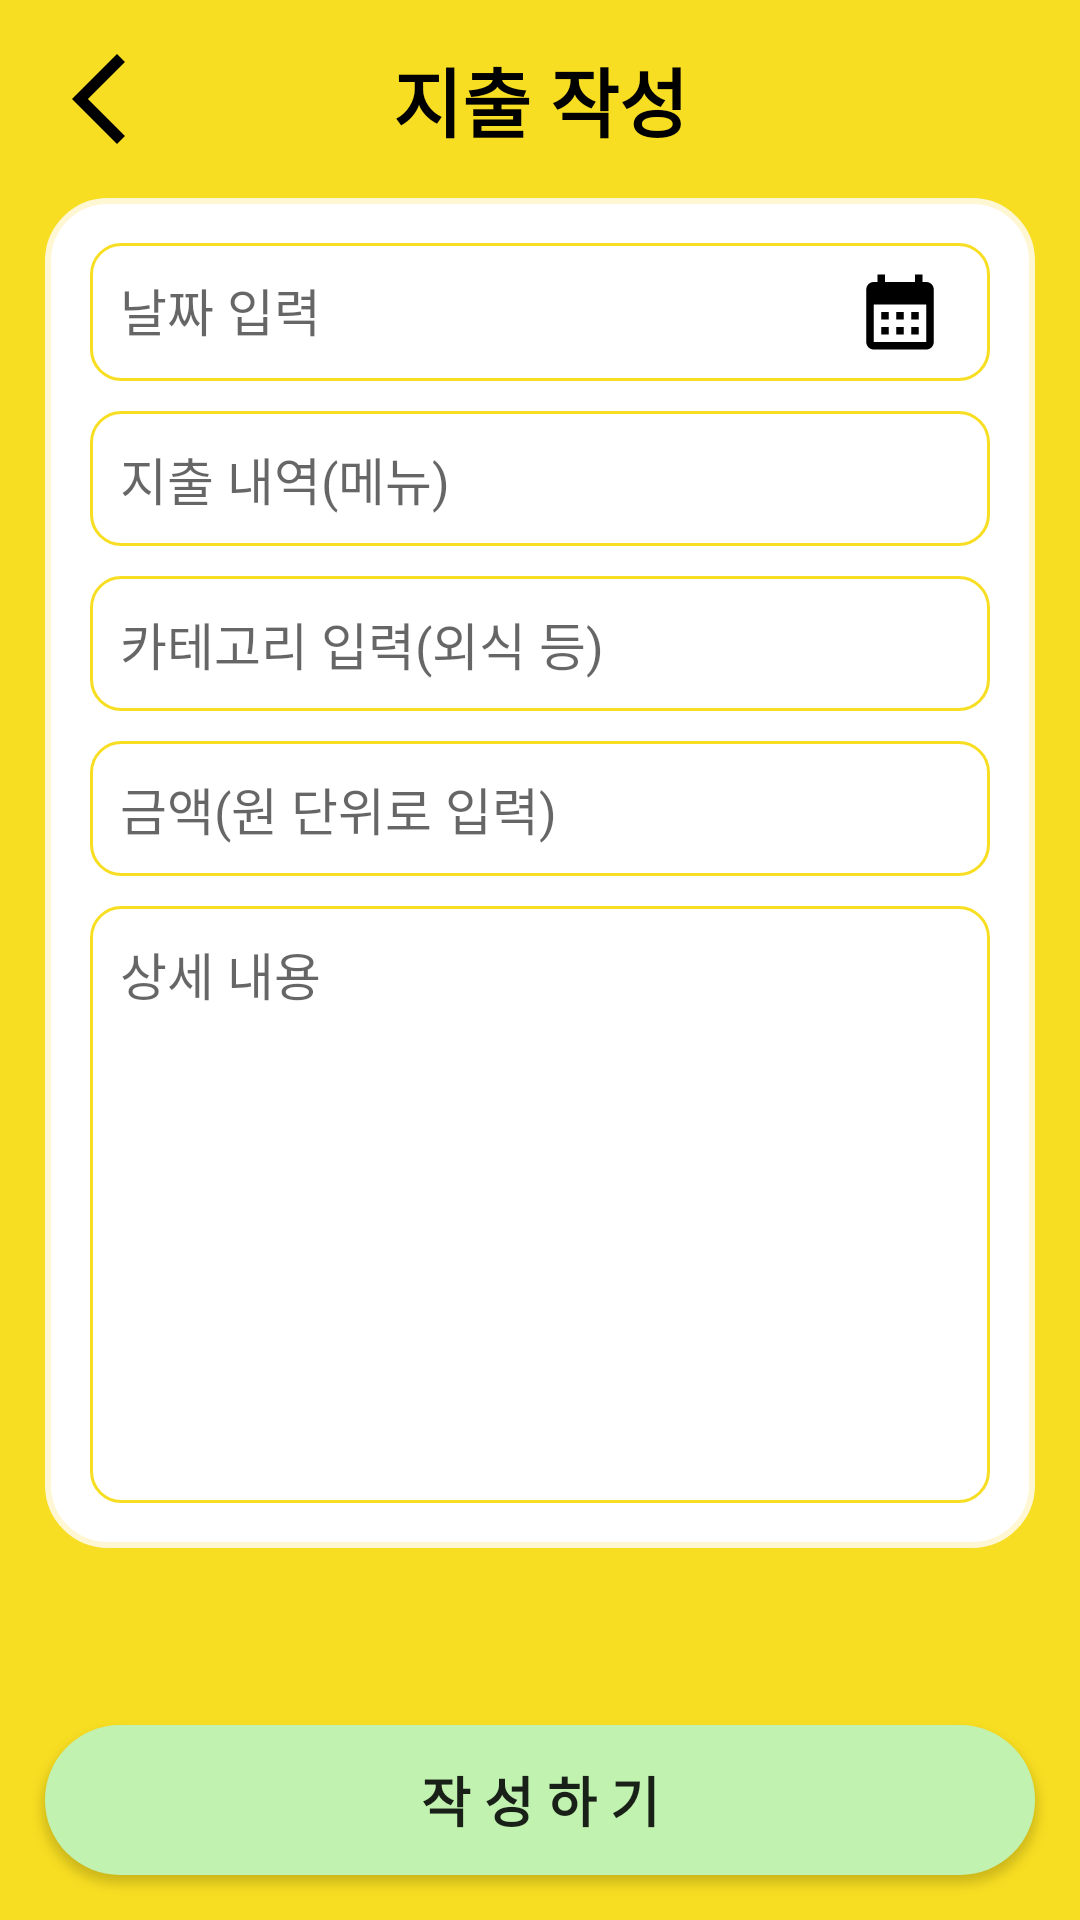

Where to tap for icons on this 1080x1920 app screen, as [x,y]:
arrow back: [98,99]
calendar month: [900,312]
